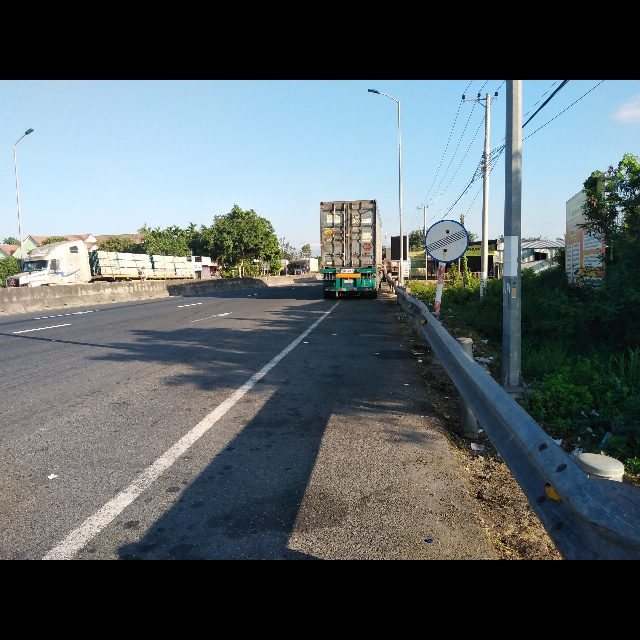Hết tất cả các lệnh cấm: (425, 218, 470, 264)
